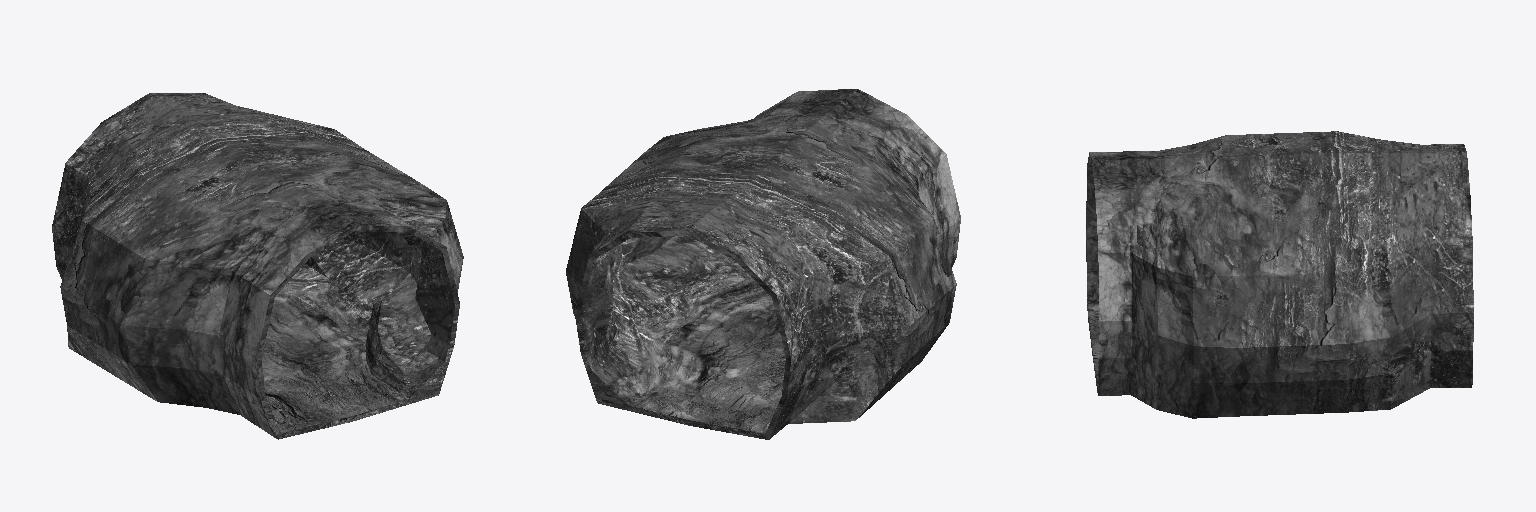
The picture shows the model from 3 angles: view 1: azimuth 30°, elevation 25°; view 2: azimuth 150°, elevation 25°; view 3: azimuth 270°, elevation 25°; orthographic projection.
Parts seen in each view (by area): view 1: CaveCorridor2; view 2: CaveCorridor2; view 3: CaveCorridor2.
Boxes of the visible parts, <box> form: CaveCorridor2: <box>52,93,463,439</box>; CaveCorridor2: <box>566,89,960,439</box>; CaveCorridor2: <box>1086,131,1473,418</box>.
Size of the model in its own units: 164 by 90.67 by 163.
Materials: 1 (1 with a texture image).